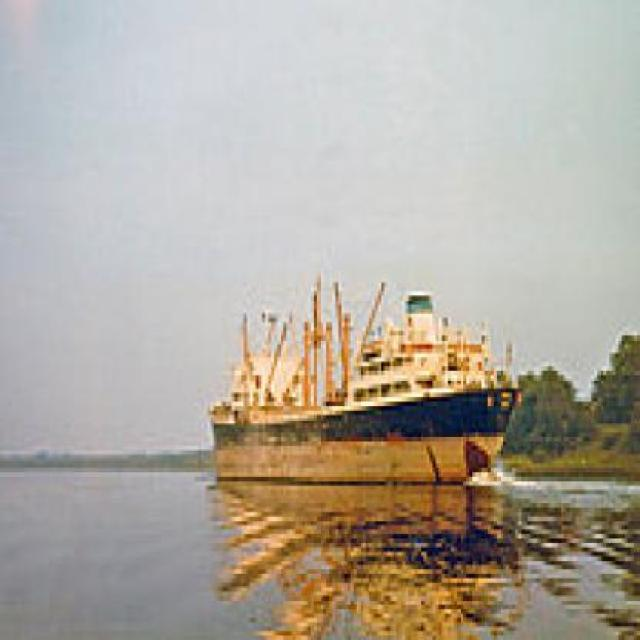container: (205, 252, 537, 509)
